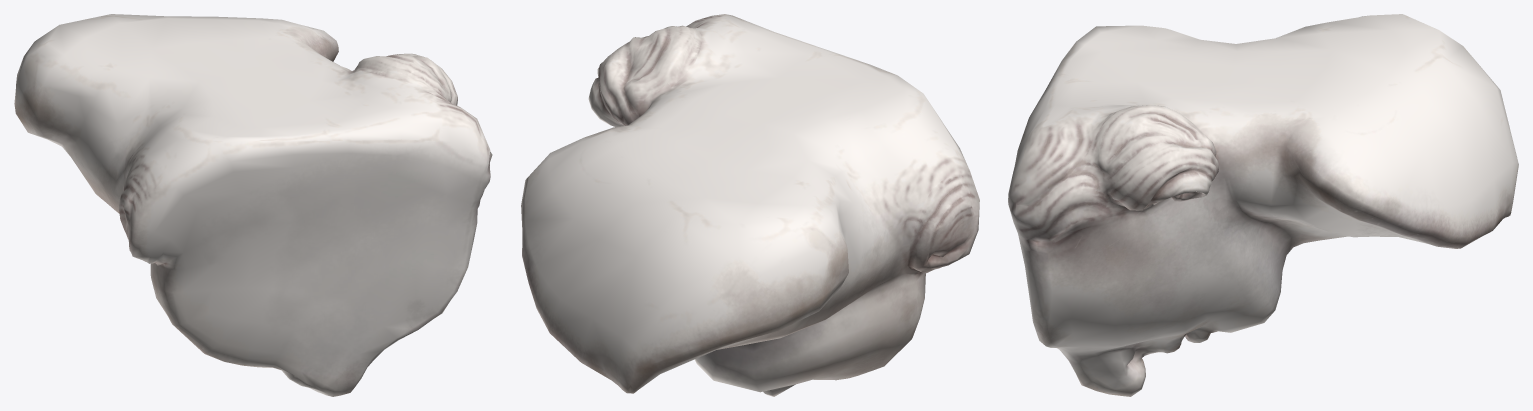
The model's file is fragmentary-head.glb.
The picture shows the model from 3 angles, left to right: view 1: azimuth 30°, elevation 25°; view 2: azimuth 150°, elevation 25°; view 3: azimuth 270°, elevation 25°; orthographic projection. The views are drawn at different scales.
Visible parts, largest first — view 1: model_0; view 2: model_0; view 3: model_0.
Boxes of the visible parts, x1,y1,x2,y2 form: model_0: (14,14,492,396); model_0: (521,14,979,396); model_0: (1008,14,1518,396).
Bounding box in the file's own units: 110 × 100 × 141.
1 material, 1 textured.
